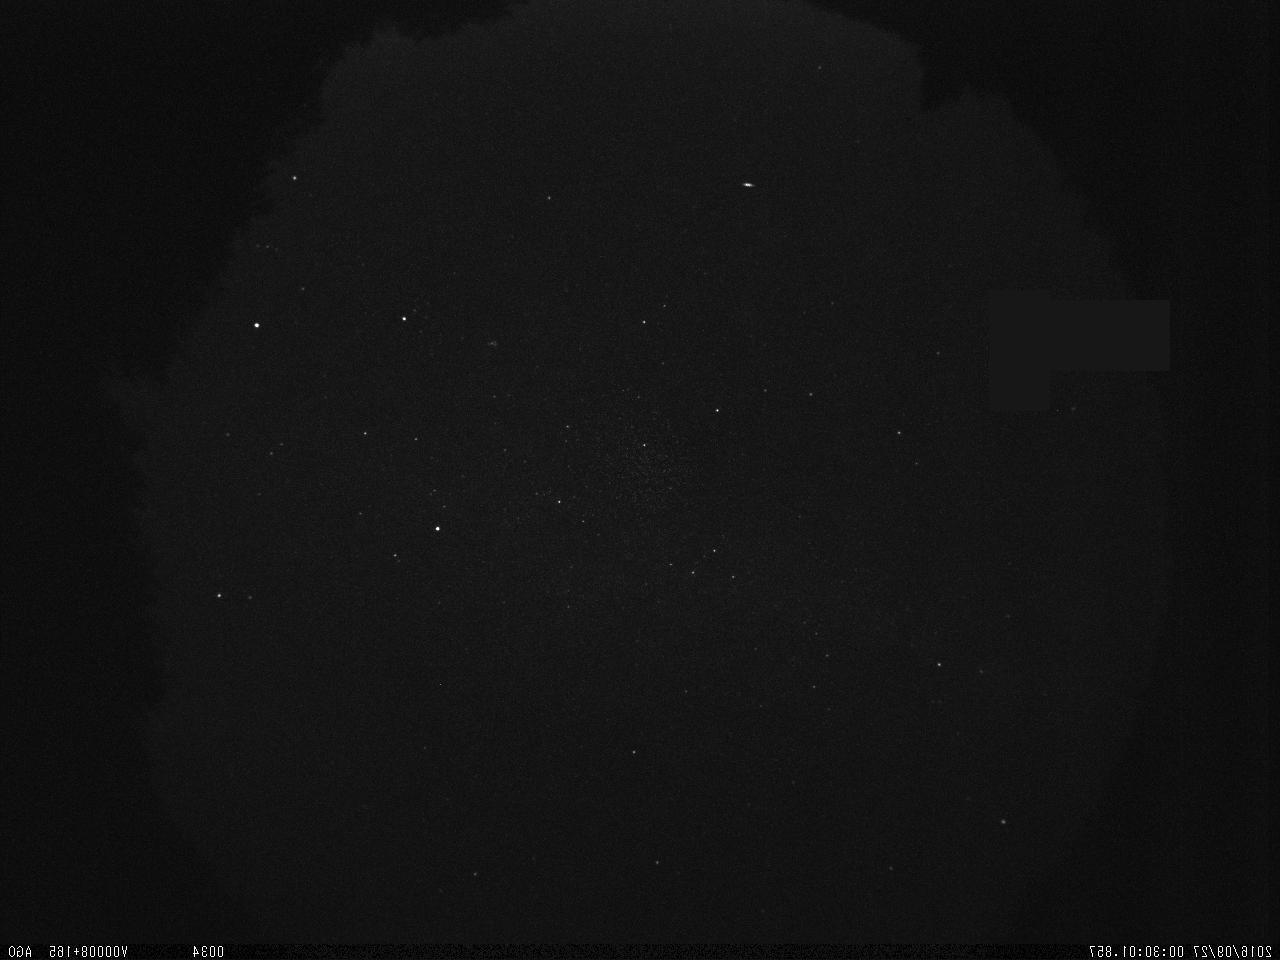meteor: (739, 175, 759, 196)
